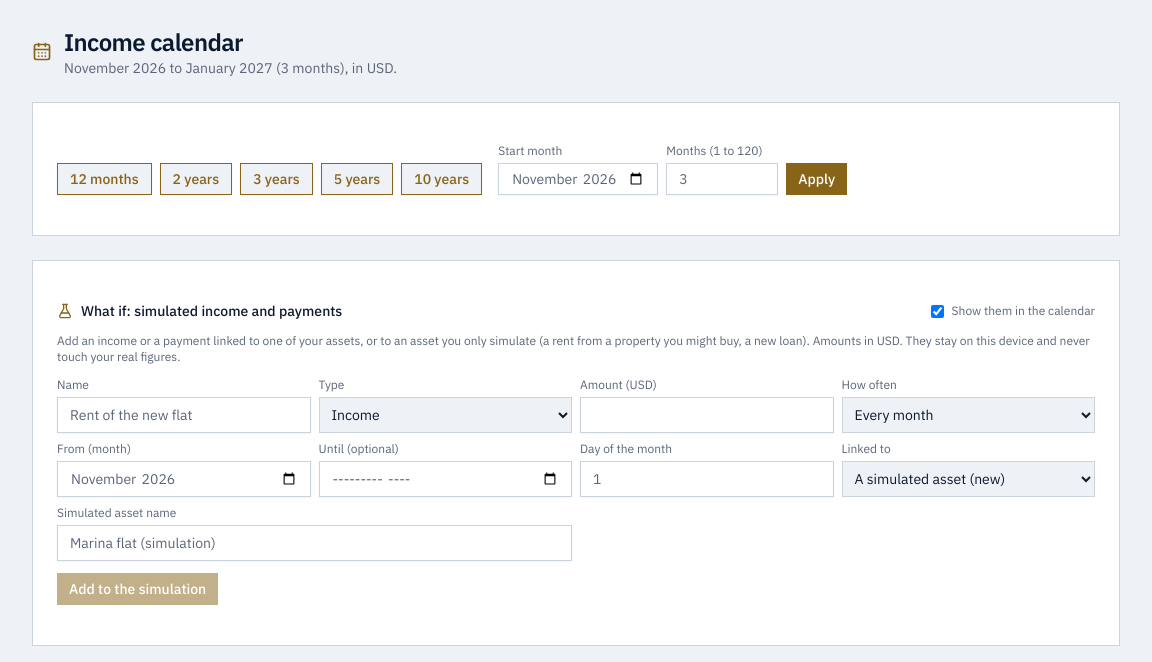
IncomeCalendarExplorer day by day and what-if › adds a what-if income and counts it
The image size is (1152, 662).
Type "Marina rent" into the field with placeholder "Rent of the new flat".
click(184, 415); type("Marina rent")  # box [57,397,310,433]
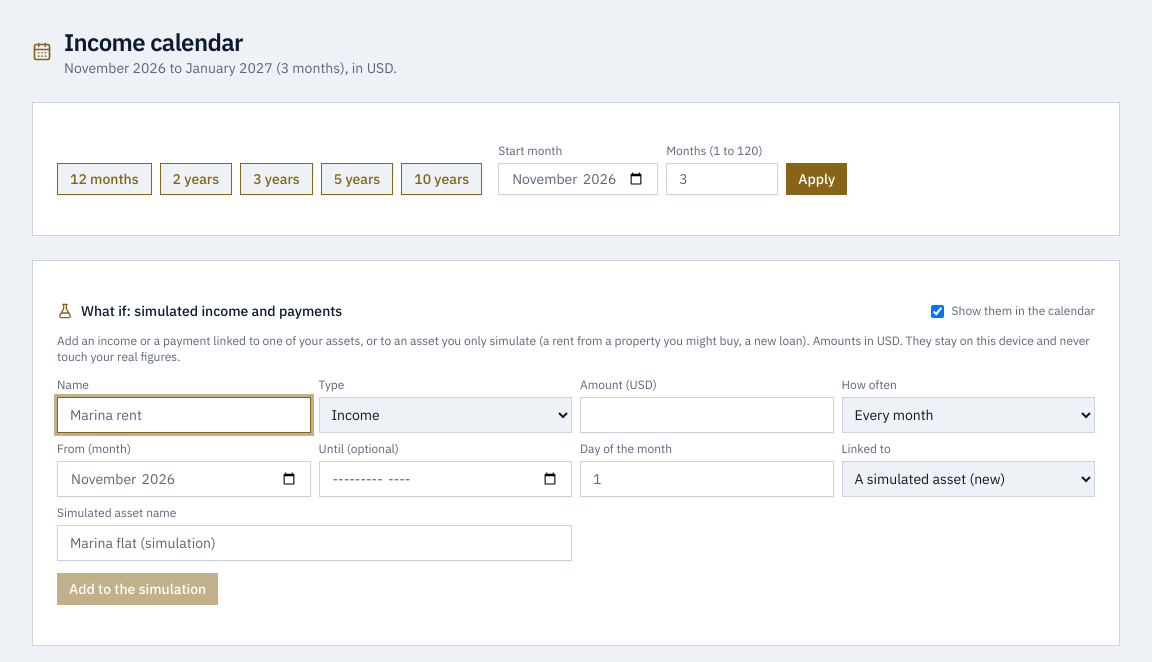
Type "5000" into the number field labelled "Amount (USD)".
click(707, 415); type("5000")  # box [580,397,834,433]
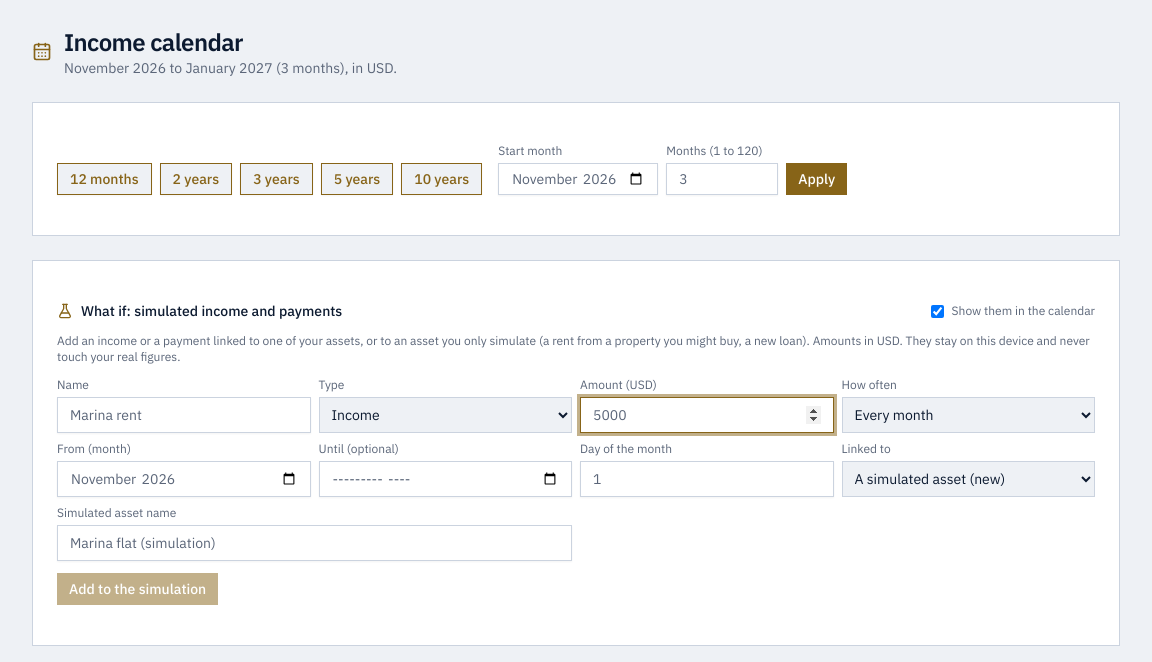
Type "Marina flat" into the field with placeholder "Marina flat (simulation)".
click(314, 543); type("Marina flat")  # box [57,525,572,561]
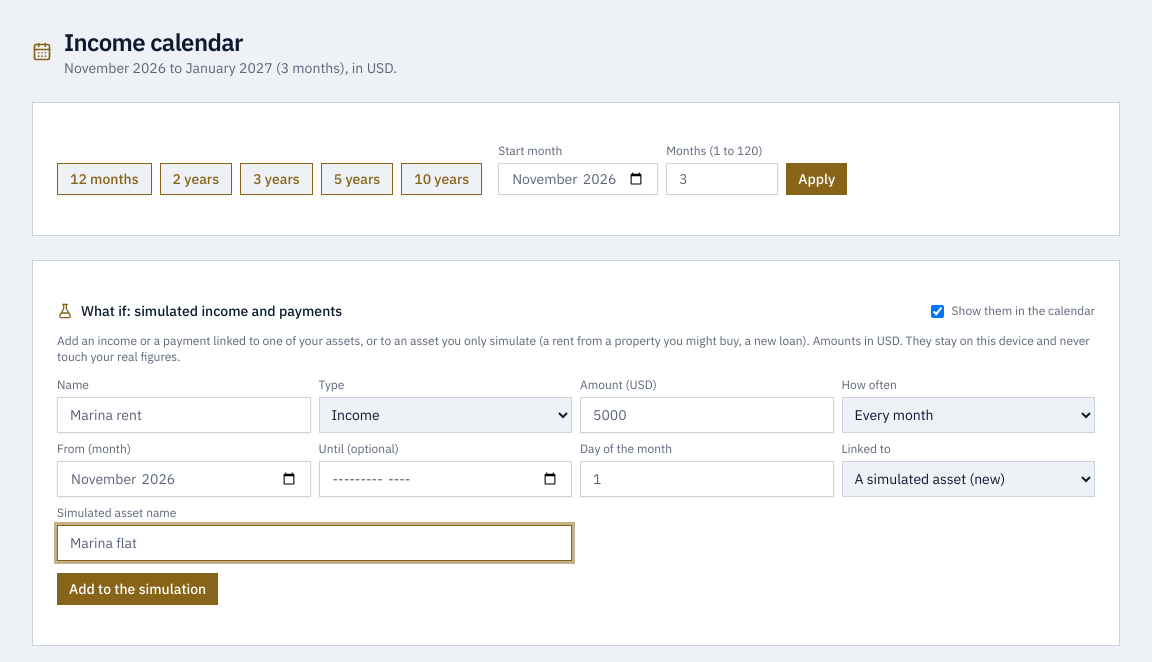
Click the button "Add to the simulation".
click(138, 589)  # box [57,573,218,605]
(page scrolled)
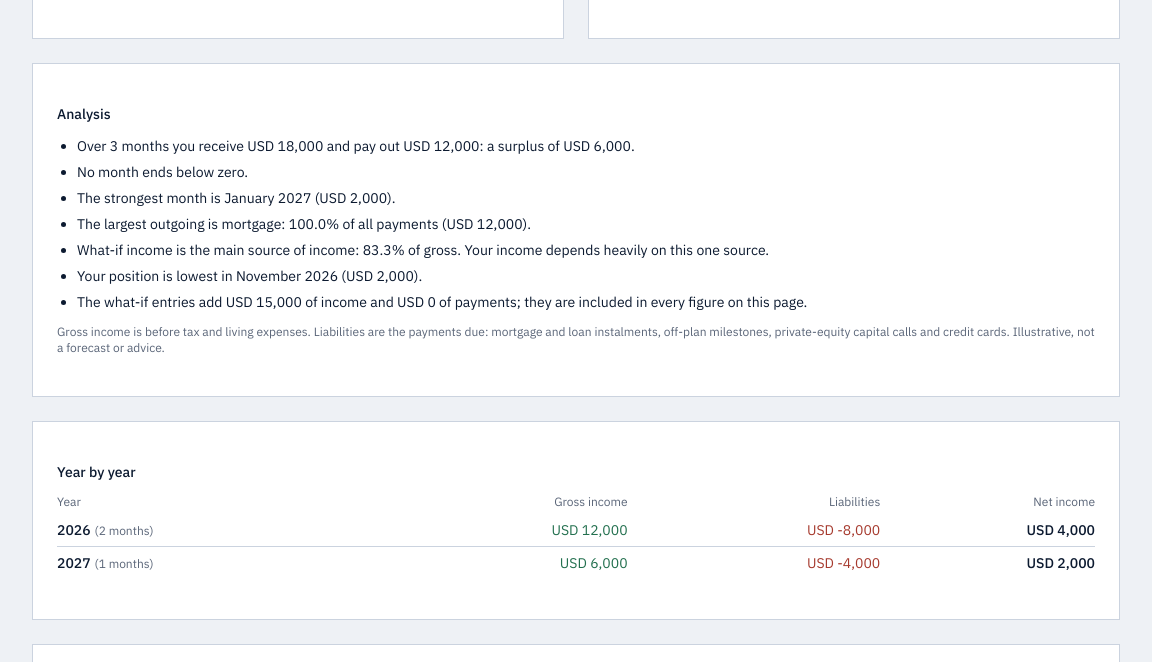
Expected: the list item "The what-if entries add" is shown, [77,293,226,311]
